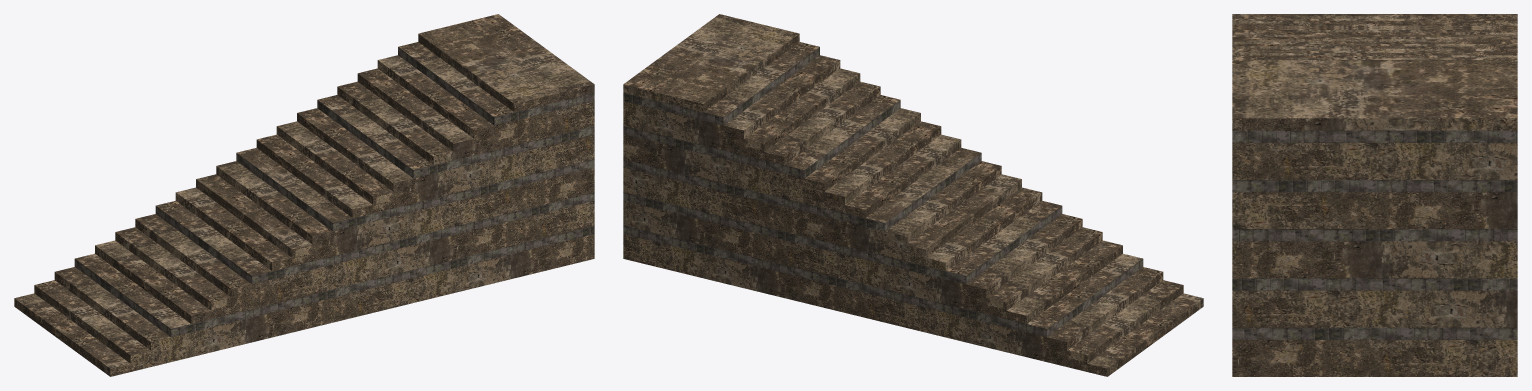
File: materials_5_stairblock_5.fbx
The picture shows the model from 3 angles, left to right: view 1: azimuth 30°, elevation 25°; view 2: azimuth 150°, elevation 25°; view 3: azimuth 270°, elevation 25°; orthographic projection. The views are drawn at different scales.
Parts seen in each view (by area): view 1: materials_5_stairblock_5; view 2: materials_5_stairblock_5; view 3: materials_5_stairblock_5.
Part boxes in pixels (x1=…): materials_5_stairblock_5: x1=14, y1=14, x2=594, y2=376; materials_5_stairblock_5: x1=623, y1=14, x2=1203, y2=376; materials_5_stairblock_5: x1=1232, y1=14, x2=1517, y2=376.
Bounding box in the file's own units: 875 × 301 × 301.
